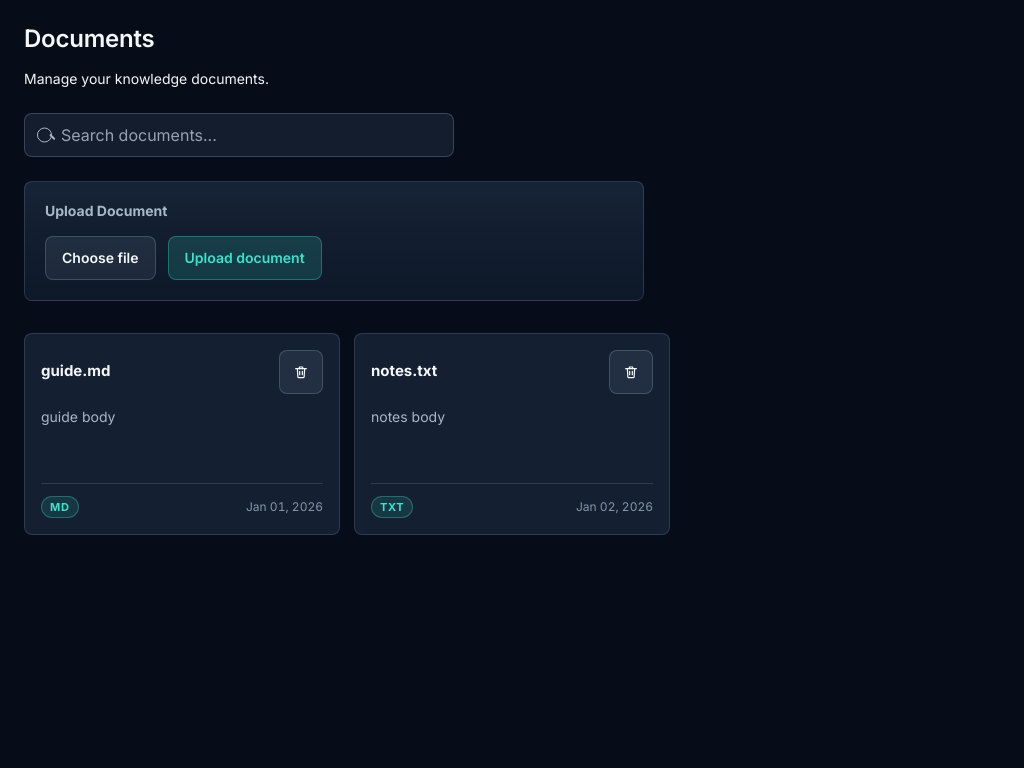
DocumentsPage › asks for confirmation before deleting and removes the document
Check: the heading "guide.md" is shown, box [41, 361, 110, 380]
What coordinates should you click on to do the following:
click the button named "Delete guide.md"
I would click on:
 (301, 372)
Its box is [279, 350, 323, 394].
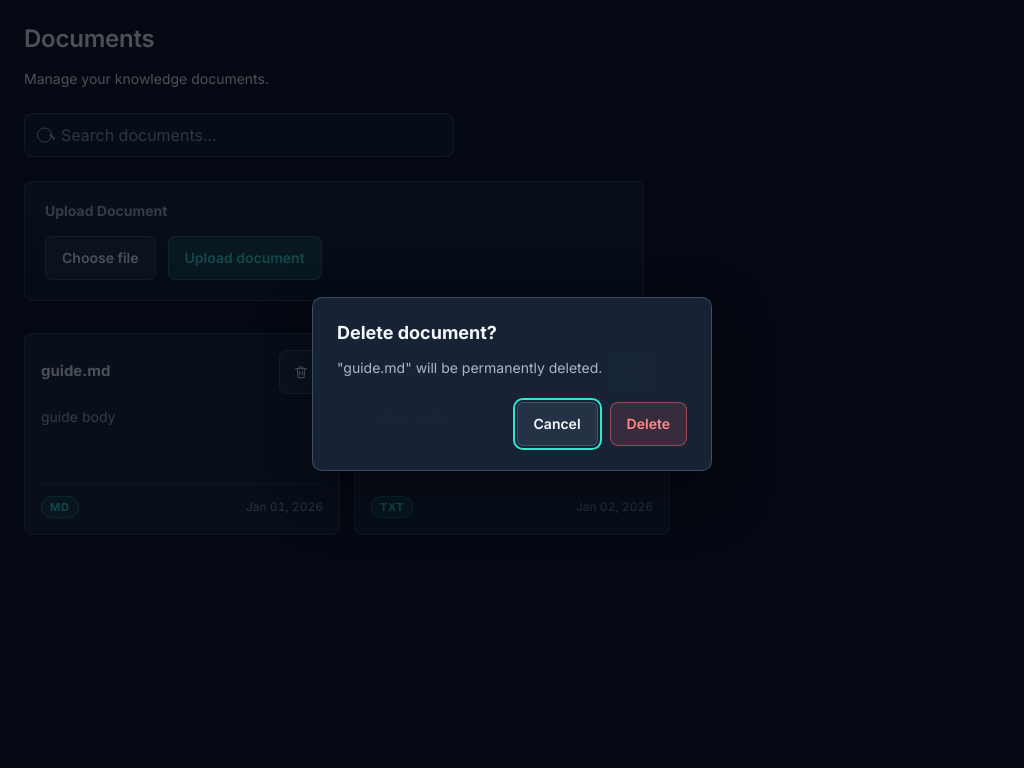
Check: the dialog is shown, box [312, 297, 712, 471]
What coordinates should you click on to do the following:
click the button "Delete"
I would click on:
 (648, 424)
Its box is [610, 402, 687, 446].
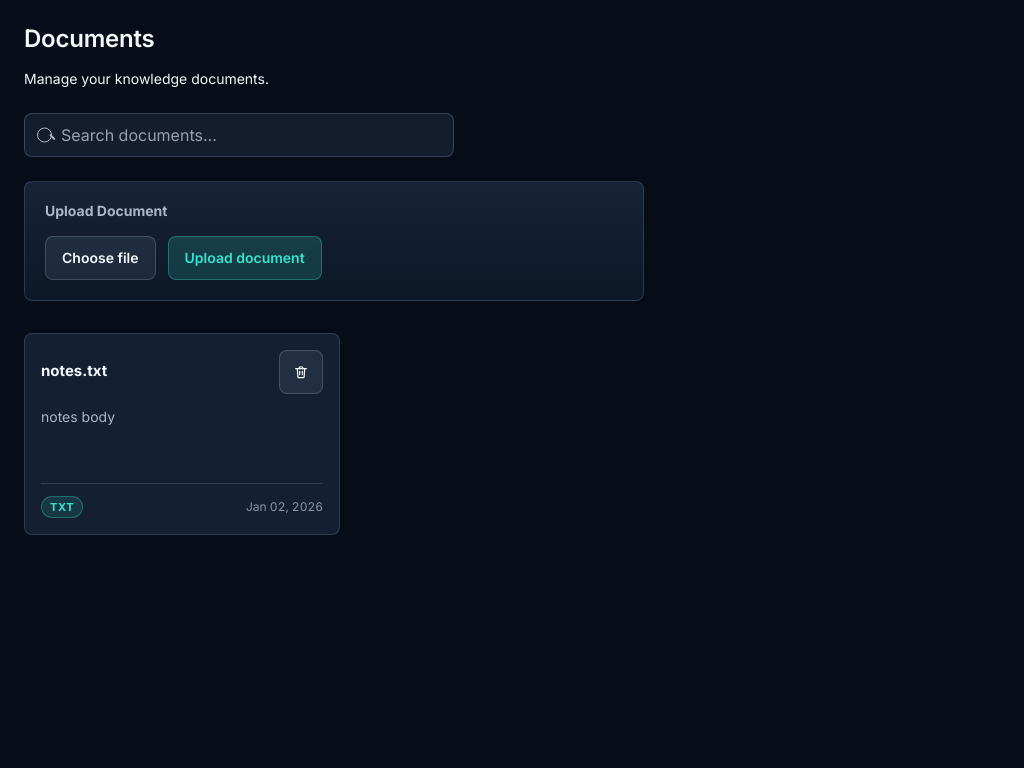
Check: the heading "guide.md" is gone
